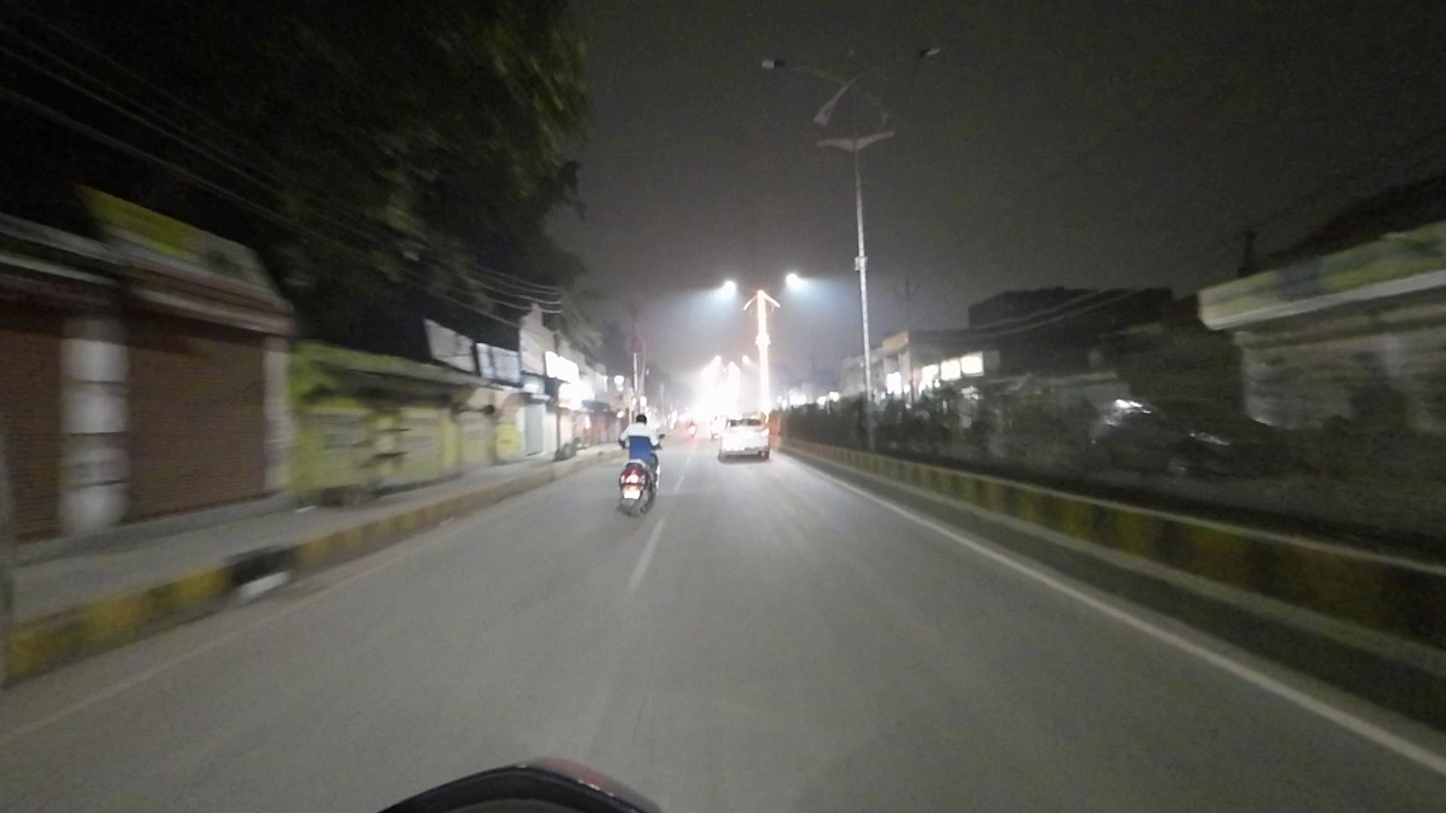streetlight: (761, 51, 844, 85), (864, 43, 950, 72)
